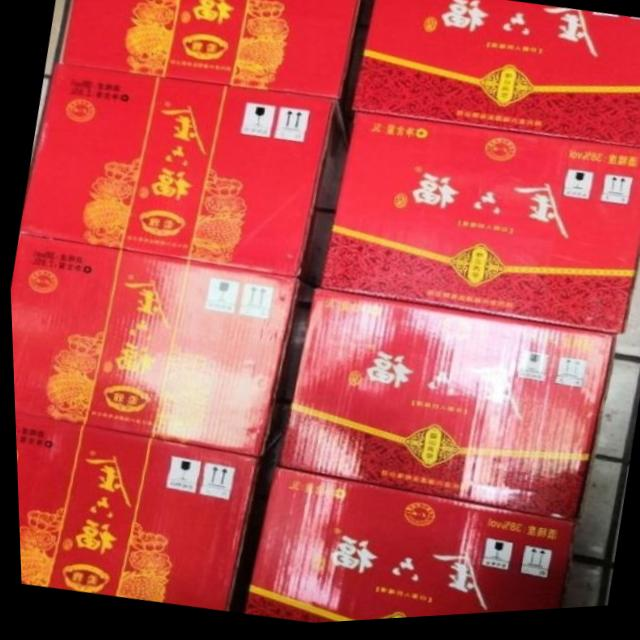box: (268, 290, 613, 532), (19, 63, 354, 292), (319, 116, 640, 343), (9, 233, 314, 462), (12, 413, 273, 616), (239, 470, 576, 626), (348, 0, 640, 155), (57, 0, 376, 106)
